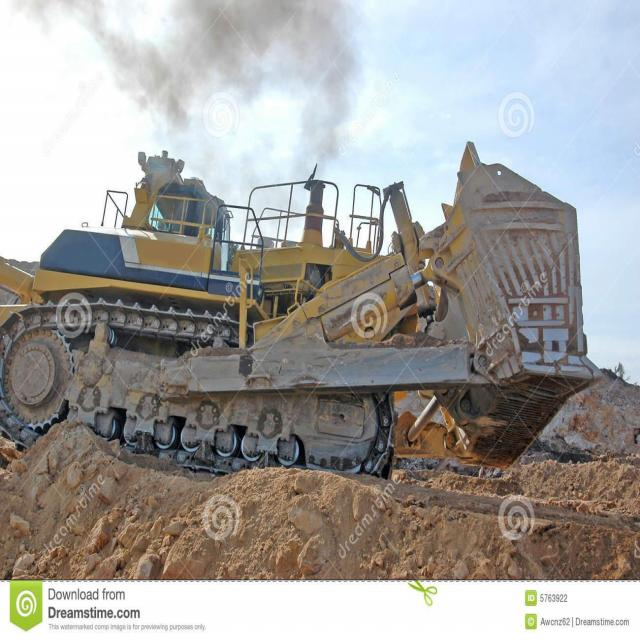Bulldozer: (22, 133, 606, 514)
